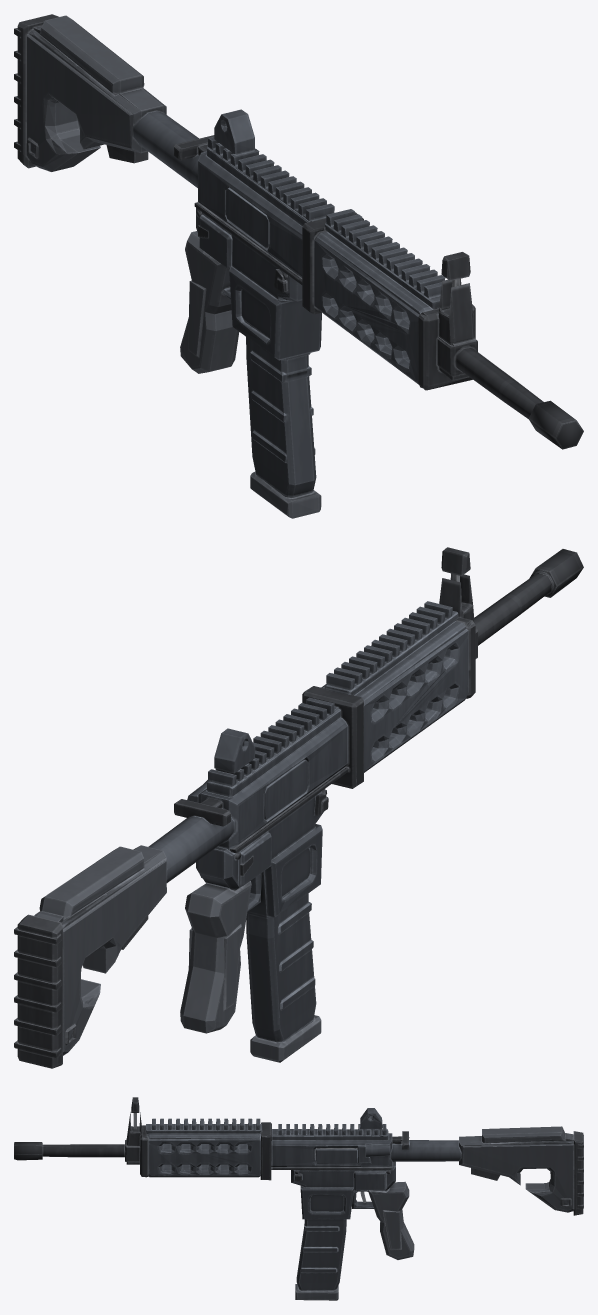
File: AR_02_World.fbx
3 renders of one model, top to bottom at view 1: azimuth 30°, elevation 25°; view 2: azimuth 150°, elevation 25°; view 3: azimuth 270°, elevation 25°, orthographic. The views are drawn at different scales.
Parts seen in each view (by area): view 1: AR_02_World; view 2: AR_02_World; view 3: AR_02_World.
Boxes of the visible parts, box(x1,y1,x2,y2) form: AR_02_World: box(14, 14, 583, 518); AR_02_World: box(14, 547, 583, 1068); AR_02_World: box(14, 1097, 583, 1300).
Bounding box in the file's own units: 0.1952 × 1.14 × 2.98.
